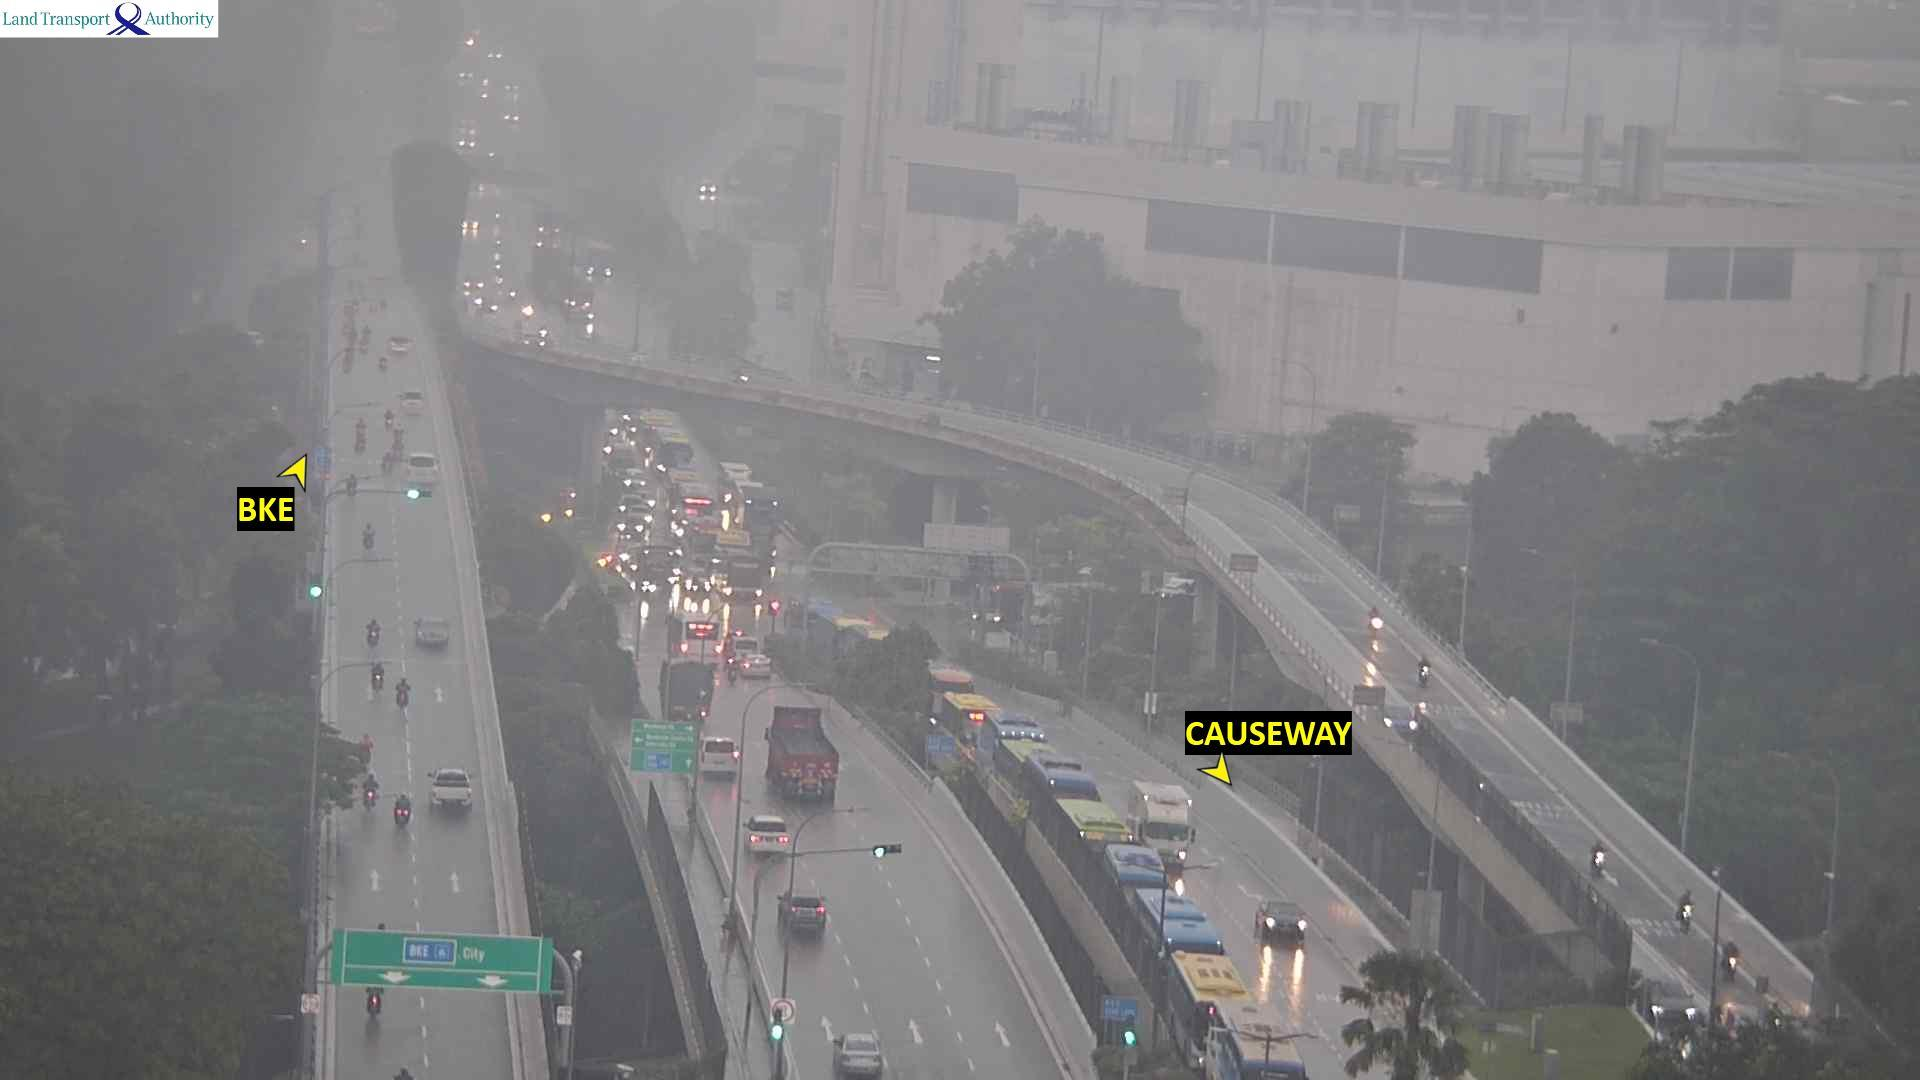vehicle-causeway-johor: (1219, 1026, 1309, 1080), (1049, 802, 1133, 856), (1134, 901, 1219, 954), (1093, 846, 1168, 904), (1133, 781, 1194, 849), (1017, 756, 1099, 801), (1640, 976, 1699, 1025), (1259, 899, 1307, 947), (941, 696, 994, 733), (1676, 889, 1692, 926), (1592, 841, 1607, 875), (1727, 938, 1737, 975), (1369, 608, 1382, 635), (464, 274, 485, 289), (1420, 656, 1429, 687), (523, 335, 546, 347), (463, 215, 480, 229), (522, 304, 533, 321), (508, 286, 519, 303), (732, 375, 749, 385), (472, 297, 484, 310), (489, 302, 497, 317)
vehicle-causeway-singapore: (763, 709, 830, 796), (662, 658, 711, 720), (785, 890, 834, 935), (742, 816, 797, 851), (836, 1039, 880, 1077), (429, 773, 475, 797), (415, 622, 448, 651), (408, 454, 438, 482), (433, 788, 469, 809), (707, 739, 737, 760), (369, 663, 385, 694), (396, 795, 411, 828), (357, 416, 371, 451), (707, 764, 737, 779), (400, 685, 416, 710), (401, 392, 424, 408), (696, 620, 715, 638), (359, 783, 372, 807), (362, 528, 372, 557), (389, 411, 400, 435), (395, 1067, 415, 1080), (392, 339, 408, 355), (365, 990, 375, 1015), (365, 622, 374, 646)
